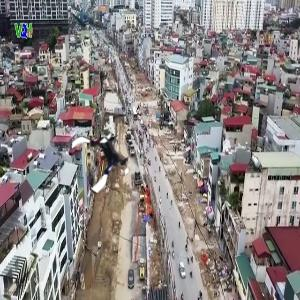drone: (68, 126, 134, 192)
